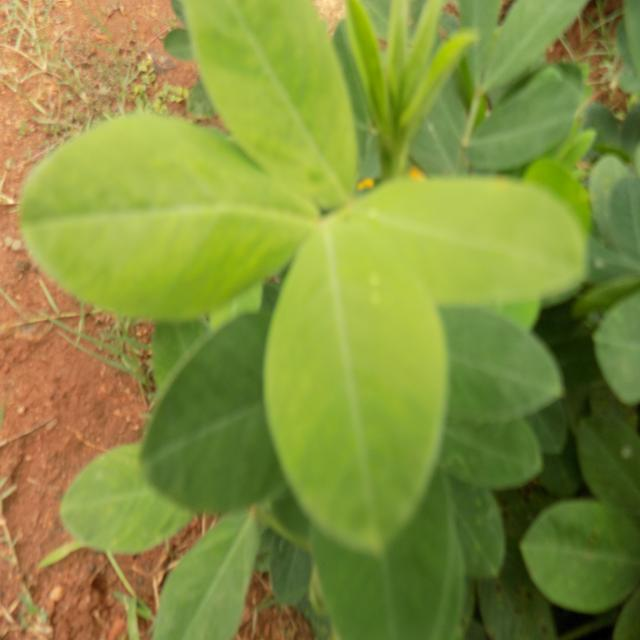Ground nut_healthy: (24, 105, 316, 303), (278, 224, 456, 548), (321, 186, 607, 307)
